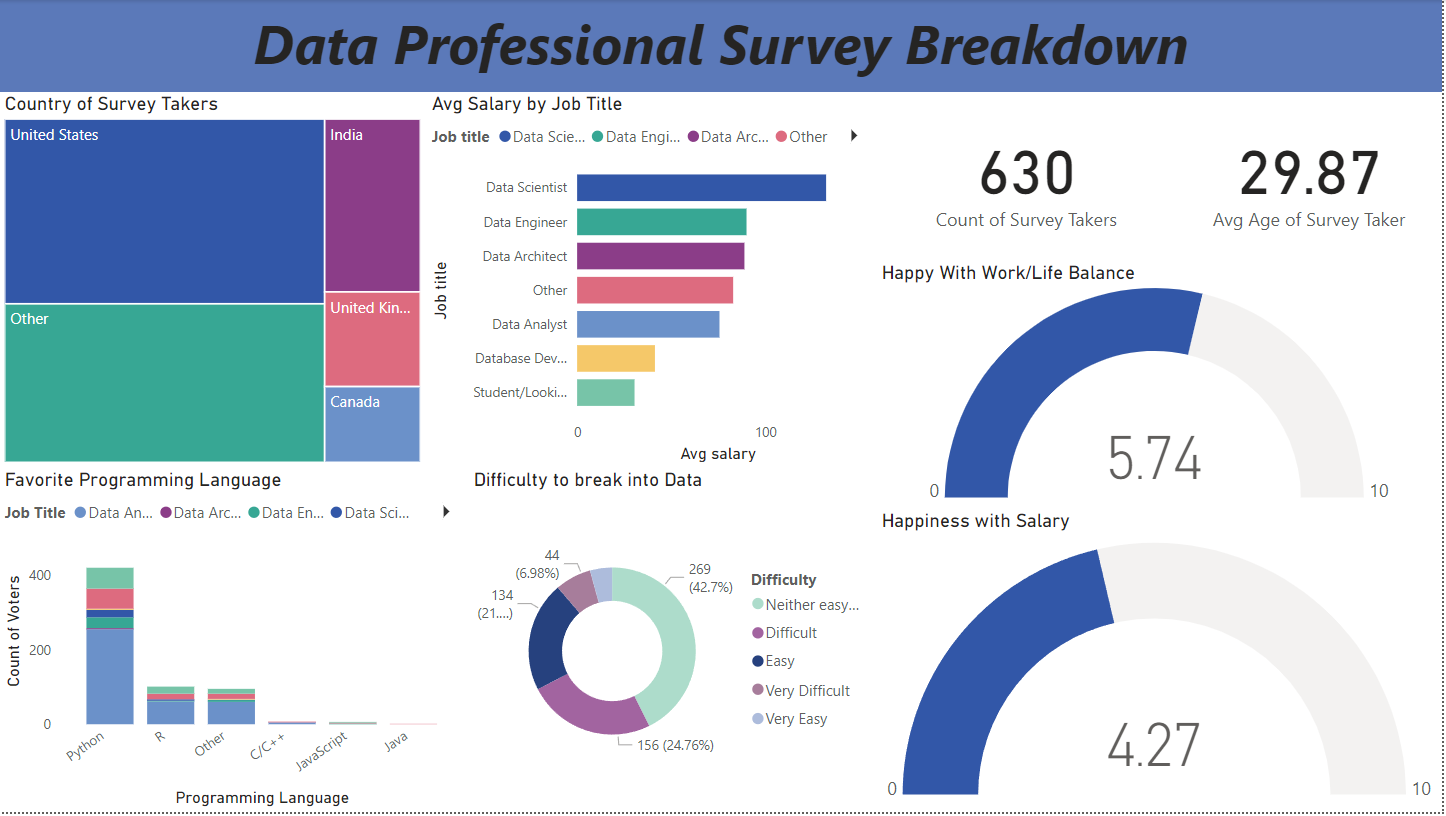

The dashboard page shown, as its layout file describes it:
{"tool":"powerbi","page":{"name":"Page 1","canvas":[1280,720],"ordinal":0},"visuals":[{"type":"textbox","box":[0,0,1280.4,81.6],"z":0},{"type":"card","fields":{"Values":["CountNonNull(Data Professional Survey.Unique ID)"]},"box":[777.5,81.5,266.5,149.4],"z":1000},{"type":"card","fields":{"Values":["Avg(Data Professional Survey.Q10 - Current Age)"]},"box":[1044,81.5,236,149.4],"z":2000},{"type":"barChart","title":"Avg Salary by Job Title","fields":{"Category":["Data Professional Survey.Q1 - Which Title Best Fits your Current Role?.1"],"Y":["Avg(Data Professional Survey.Avg salary)"],"Series":["Data Professional Survey.Q1 - Which Title Best Fits your Current Role?.1"]},"box":[378.6,81.6,399,333.4],"z":3000},{"type":"columnChart","title":"Favorite Programming Language","fields":{"Category":["Data Professional Survey.Q5 - Favorite Programming Language.1"],"Y":["CountNonNull(Data Professional Survey.Unique ID)"],"Series":["Data Professional Survey.Q1 - Which Title Best Fits your Current Role?.1"]},"box":[0,414.6,416.2,305.5],"z":4000},{"type":"treemap","title":"Country of Survey Takers","fields":{"Group":["Data Professional Survey.Q11 - Which Country do you live in?.1"],"Values":["CountNonNull(Data Professional Survey.Q11 - Which Country do you live in?.1)"]},"box":[0,81.6,378.6,333.4],"z":5000},{"type":"gauge","title":"Happy With Work/Life Balance","fields":{"Y":["Avg(Data Professional Survey.Q6 - How Happy are you in your Current Position with the following? (Work/Life Balance))"],"MinValue":["Min(Data Professional Survey.Q6 - How Happy are you in your Current Position with the following? (Work/Life Balance))"],"MaxValue":["Max(Data Professional Survey.Q6 - How Happy are you in your Current Position with the following? (Work/Life Balance))1"]},"box":[777.9,231.2,502.1,219.7],"z":6000},{"type":"gauge","title":"Happiness with Salary","fields":{"Y":["Avg(Data Professional Survey.Q6 - How Happy are you in your Current Position with the following? (Salary))"],"MinValue":["Min(Data Professional Survey.Q6 - How Happy are you in your Current Position with the following? (Salary))"],"MaxValue":["Max(Data Professional Survey.Q6 - How Happy are you in your Current Position with the following? (Salary))"]},"box":[777.9,450.9,502.1,269.2],"z":7000},{"type":"donutChart","title":"Difficulty to break into Data","fields":{"Category":["Data Professional Survey.Q7 - How difficult was it for you to break into Data?"],"Y":["CountNonNull(Data Professional Survey.Q7 - How difficult was it for you to break into Data?)"]},"box":[416.2,414.6,361.7,305.5],"z":8000}]}

Visuals, with their boxes in screenshot pixels (x1, y1, x2, y2), scaled from the page's 1280x720 canvas onto the 1446x816 screenshot:
textbox: 0,0,1445,92
card - CountNonNull(Data Professional Survey.Unique ID): 878,92,1179,262
card - Avg(Data Professional Survey.Q10 - Current Age): 1179,92,1445,262
"Avg Salary by Job Title" barChart: 428,92,878,470
"Favorite Programming Language" columnChart: 0,470,470,815
"Country of Survey Takers" treemap: 0,92,428,470
"Happy With Work/Life Balance" gauge: 879,262,1445,511
"Happiness with Salary" gauge: 879,511,1445,815
"Difficulty to break into Data" donutChart: 470,470,879,815
